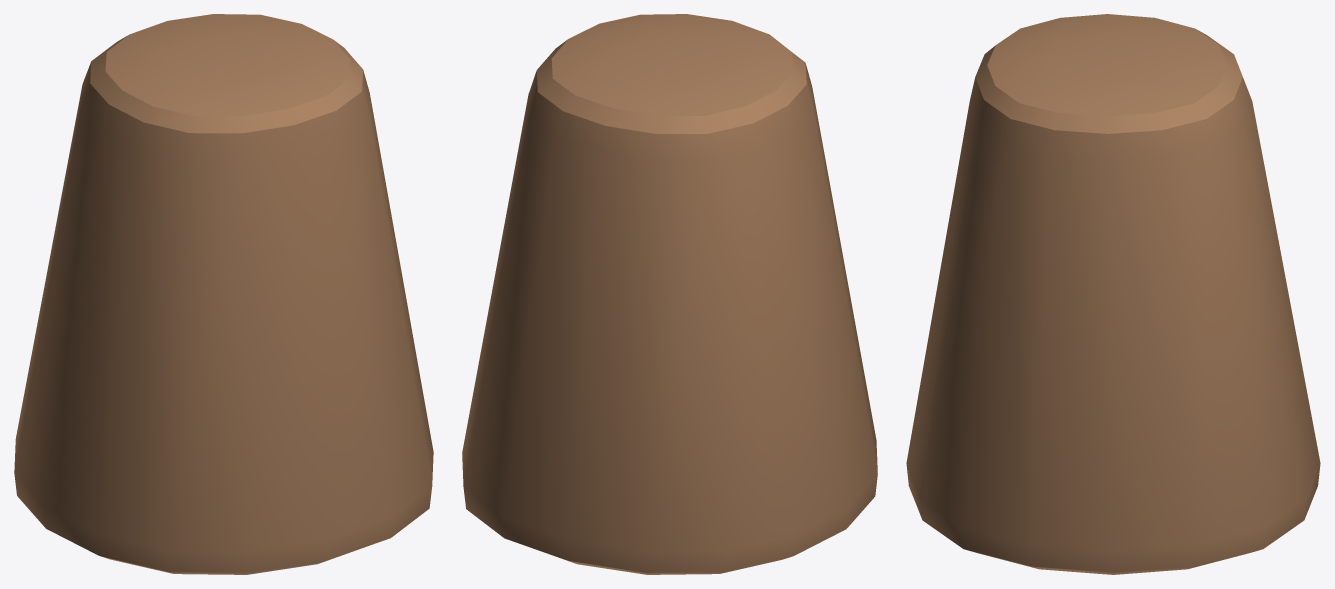
Rendered from RockPlatform_Tall.gltf.
3 views of the same model, side by side, from view 1: azimuth 30°, elevation 25°; view 2: azimuth 150°, elevation 25°; view 3: azimuth 270°, elevation 25° (orthographic).
Visible parts, largest first — view 1: RockPlatform_Tall; view 2: RockPlatform_Tall; view 3: RockPlatform_Tall.
Part boxes in pixels (<box>): RockPlatform_Tall: <box>14,14,433,574</box>; RockPlatform_Tall: <box>462,14,877,574</box>; RockPlatform_Tall: <box>906,14,1320,574</box>.
Size of the model in its own units: 3.58 by 4.26 by 3.58.
